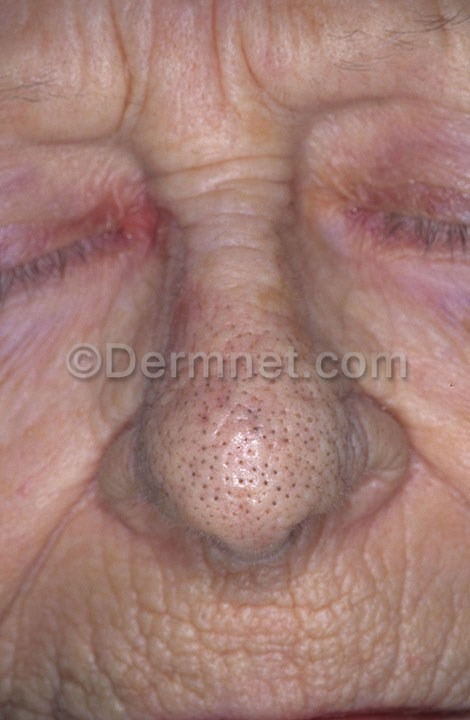Melasma: (11, 113, 470, 330), (161, 393, 375, 552)
